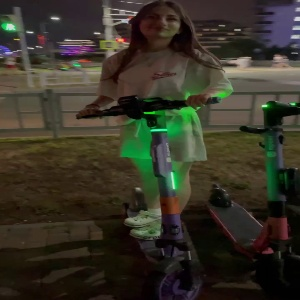human on a scooter: (74, 1, 235, 300)
